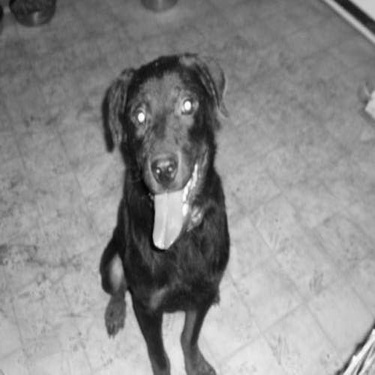dog: (69, 39, 238, 373)
